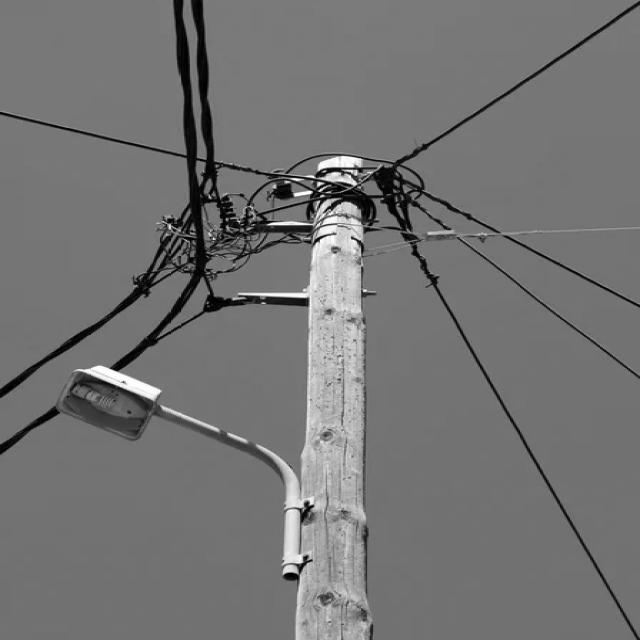Pole: (296, 156, 373, 639)
